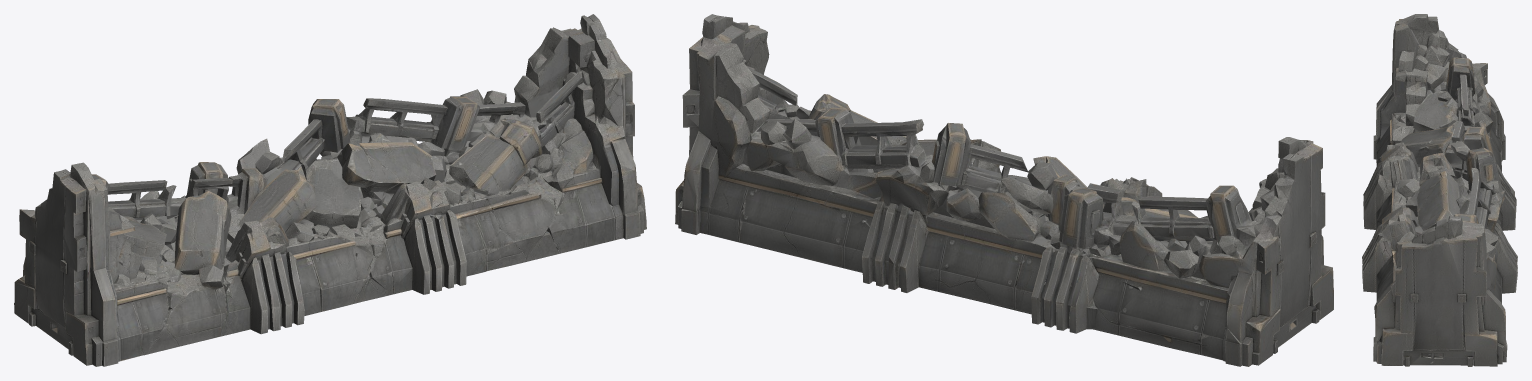
File: imperial_city_wall_straight_ruined.glb
3 views of the same model, side by side, from view 1: azimuth 30°, elevation 25°; view 2: azimuth 150°, elevation 25°; view 3: azimuth 270°, elevation 25° (orthographic). The views are drawn at different scales.
Visible parts, largest first — view 1: mesh_node; view 2: mesh_node; view 3: mesh_node.
Part boxes in pixels (x1,y1,x2,y2): mesh_node: (14,14,646,366); mesh_node: (675,14,1333,366); mesh_node: (1362,14,1517,366).
Bounding box in the file's own units: 11.89 × 3.66 × 3.57.
Materials: 1 (1 with a texture image).
